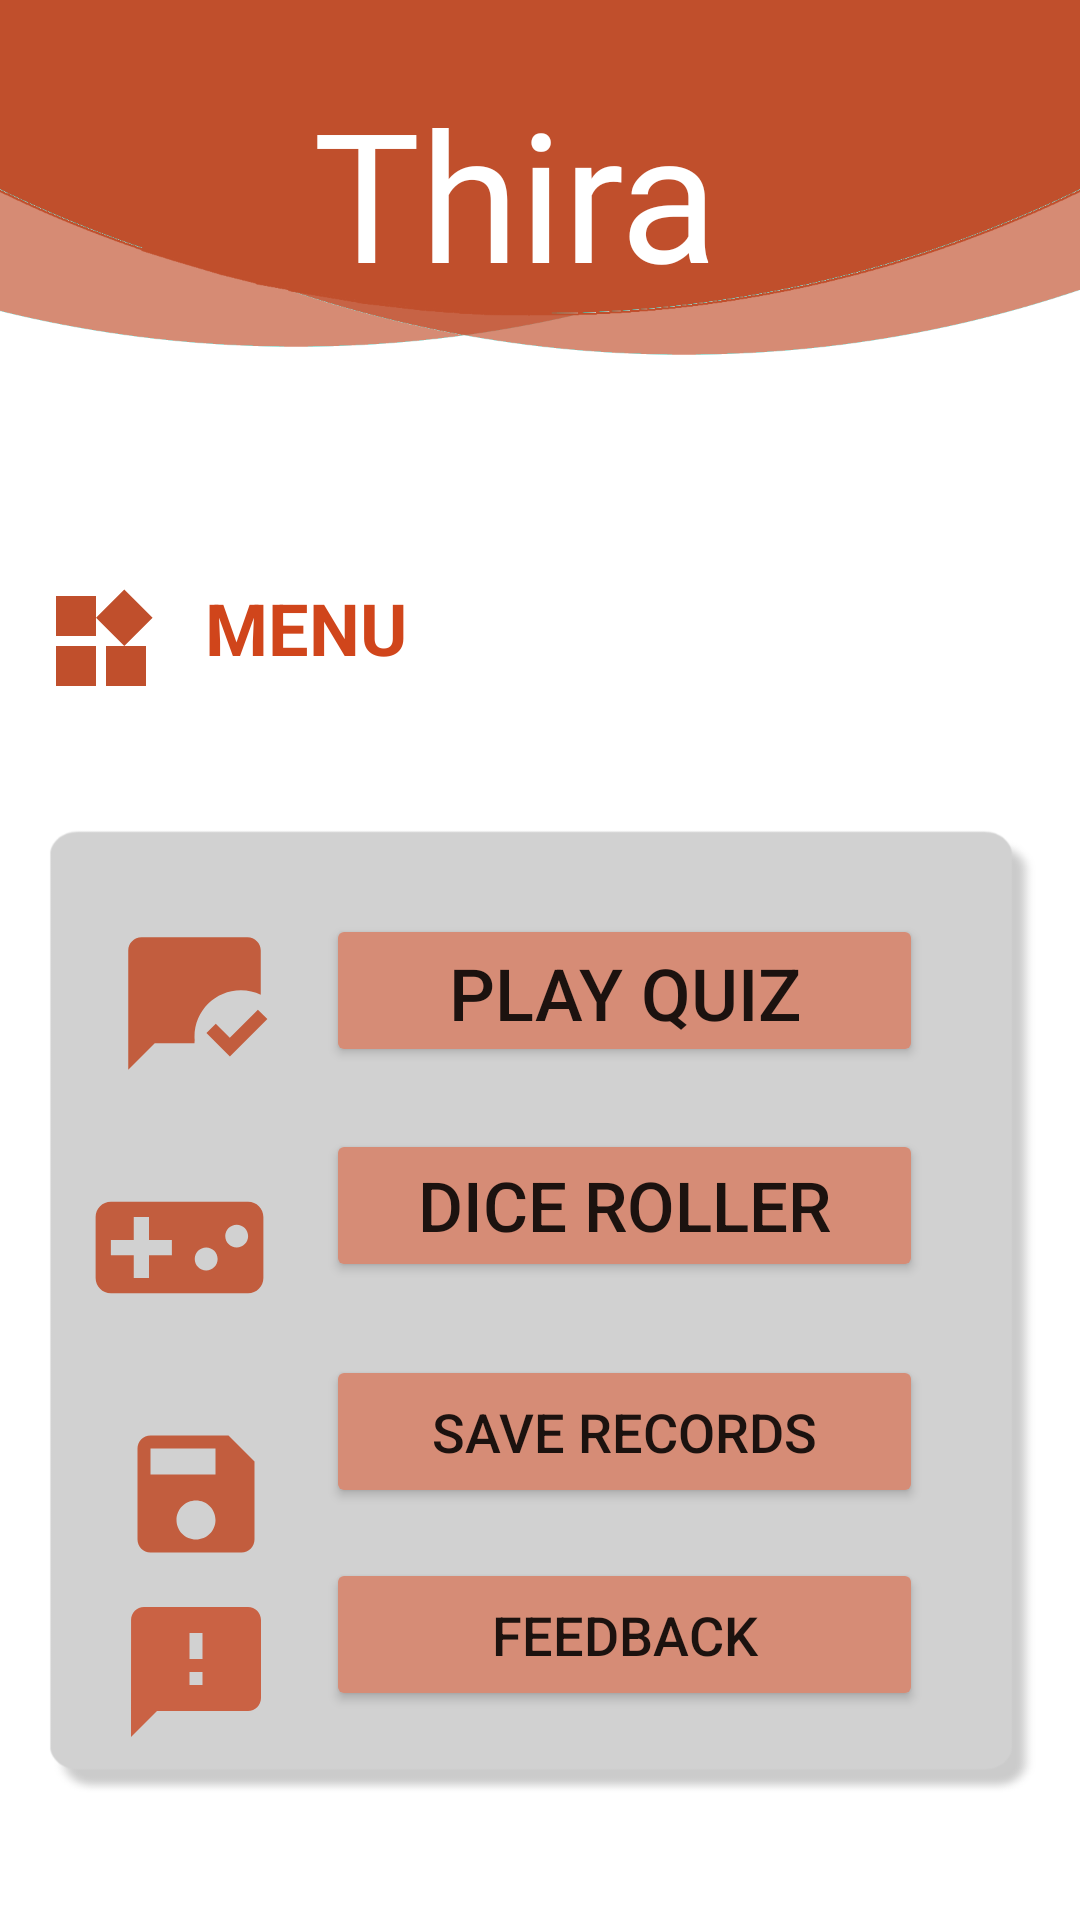

Point at icon controls on the screen. Image size 1080×1920, points as (x=x, y=y).
mark chat read: (x=197, y=1003)
videogame: (x=179, y=1247)
